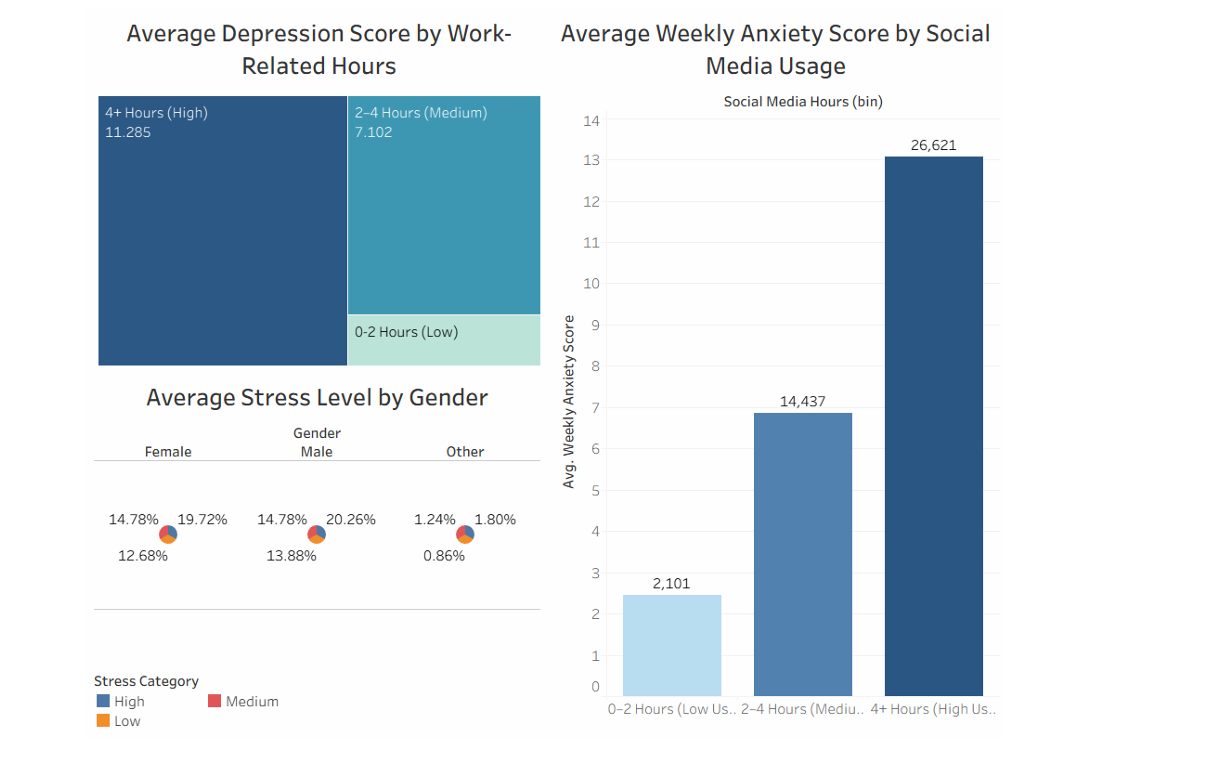

The dashboard page shown, as its layout file describes it:
{"tool":"tableau","page":{"name":"Dashboard 2","canvas":[1000,800],"ordinal":1},"visuals":[{"type":"worksheet","title":"Average Depression Score by Work-Related Hours","mark":"Automatic","box":[8,8,493,392]},{"type":"worksheet","title":"Average Weekly Anxiety Score by Social Media Usage","mark":"Bar","rows":["weekly_anxiety_score"],"cols":["Social Media Hours (bin)"],"box":[501,8,491,784]},{"type":"worksheet","title":"Average Stress Level by Gender","mark":"Pie","cols":["gender"],"box":[8,400,493,317]},{"type":"legend","title":"Average Stress Level by Gender","param":"[federated.1qfsr8w1007azy12gvdld18c7kid].[none:Calculation_939563486290698243:nk","box":[8,717,493,75]}]}

Visuals, with their boxes on the page's 1000x800 design canvas (x1, y1, x2, y2). These are canvas units, not pixel positions in the 1215x759 screenshot, which may show the page scaled, cropped or inside an application window:
"Average Depression Score by Work-Related Hours" worksheet: bbox=(8, 8, 501, 400)
"Average Weekly Anxiety Score by Social Media Usage" worksheet (Bar marks): bbox=(501, 8, 992, 792)
"Average Stress Level by Gender" worksheet (Pie marks): bbox=(8, 400, 501, 717)
"Average Stress Level by Gender" legend: bbox=(8, 717, 501, 792)
